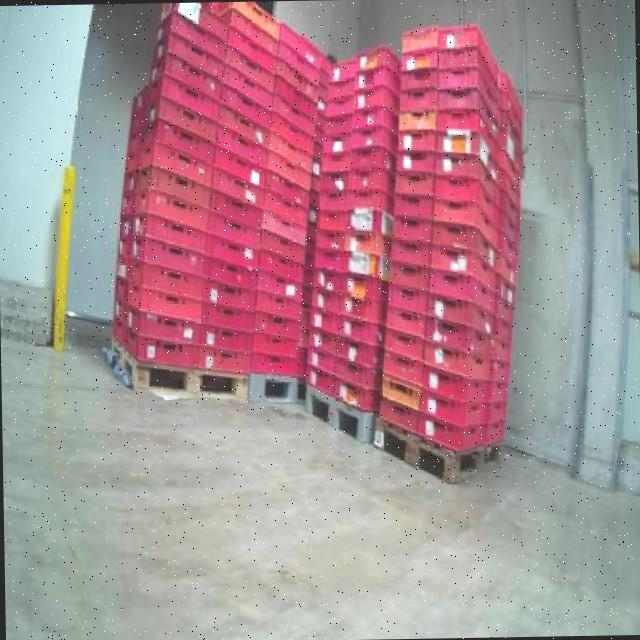pallet: (93, 329, 249, 410), (372, 411, 512, 488), (304, 379, 372, 446)
